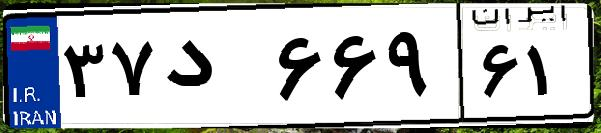1: (525, 38, 570, 115)
3: (57, 26, 110, 100)
6: (270, 28, 330, 110), (330, 28, 385, 110), (475, 38, 525, 113)
7: (110, 28, 158, 98)
9: (385, 28, 445, 110)
د: (158, 20, 270, 120)
